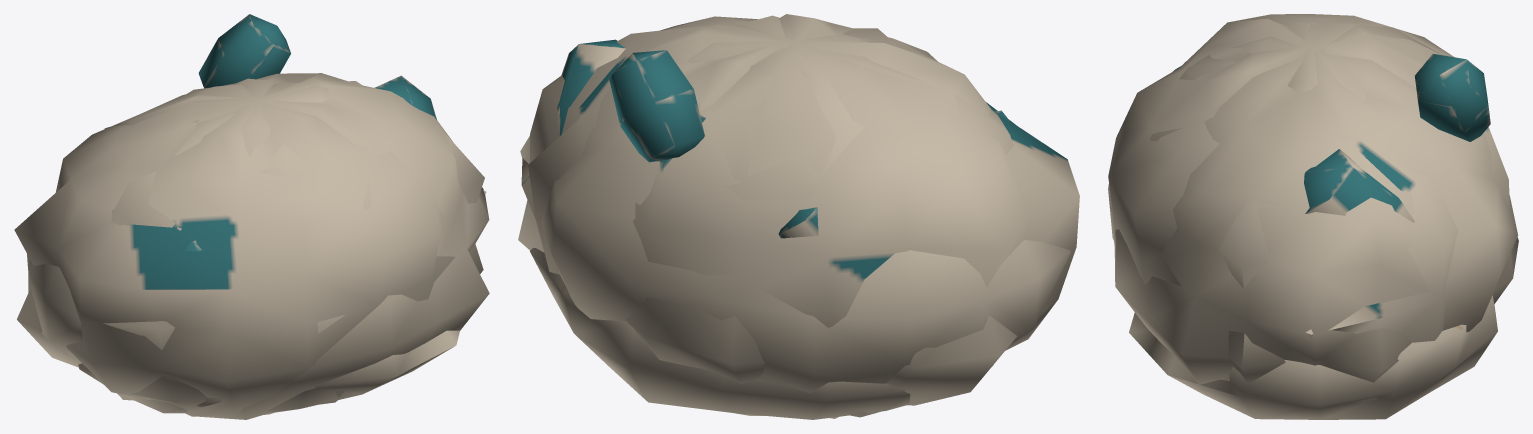
Rendered from caillou.glb.
3 renders of one model, left to right at view 1: azimuth 30°, elevation 25°; view 2: azimuth 150°, elevation 25°; view 3: azimuth 270°, elevation 25°, orthographic. The views are drawn at different scales.
Visible parts, largest first — view 1: minerai-de-cuivre, pierre, fossile-coquille; view 2: minerai-de-cuivre, pierre, fossile-coquille; view 3: pierre, minerai-de-cuivre, fossile-coquille.
Part boxes in pixels (box(x1,y1,x2,y2)): minerai-de-cuivre: box(14, 14, 486, 416); pierre: box(27, 73, 489, 419); fossile-coquille: box(78, 330, 459, 413); minerai-de-cuivre: box(521, 14, 1079, 418); pierre: box(518, 15, 1070, 417); fossile-coquille: box(530, 247, 993, 419); pierre: box(1109, 19, 1518, 392); minerai-de-cuivre: box(1108, 14, 1518, 402); fossile-coquille: box(1129, 295, 1497, 419).
Size of the model in its own units: 0.12 by 0.0821 by 0.0877.
Materials: 1 (1 with a texture image).
